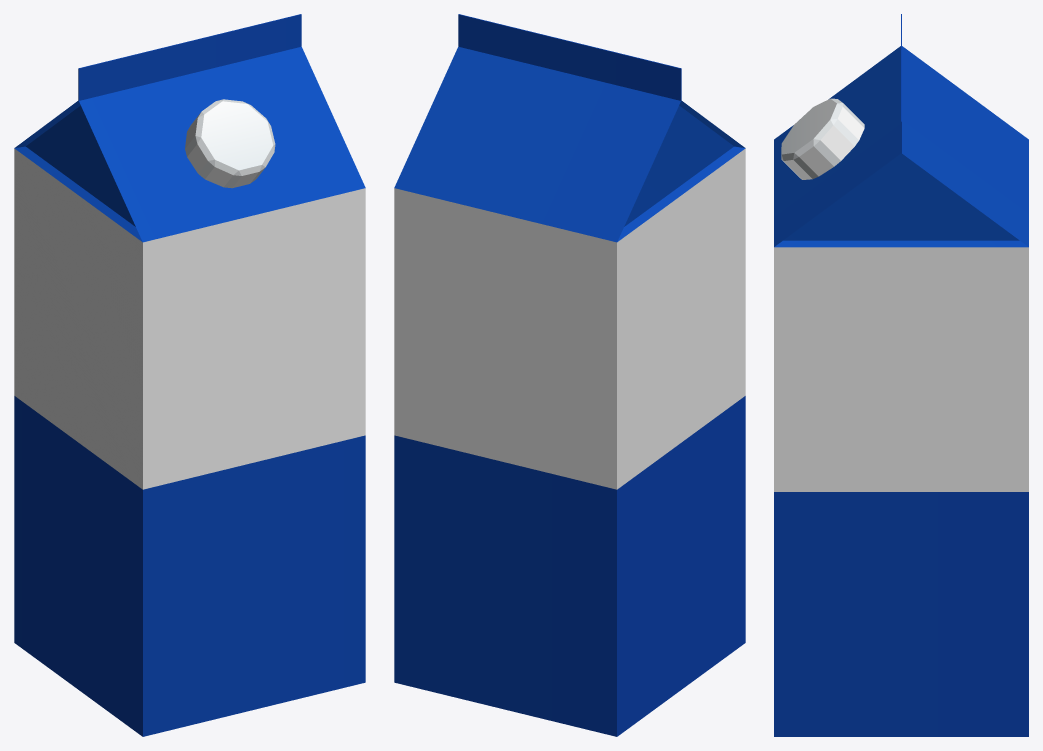
File: Milk.fbx
3 renders of one model, left to right at view 1: azimuth 30°, elevation 25°; view 2: azimuth 150°, elevation 25°; view 3: azimuth 270°, elevation 25°, orthographic.
Visible parts, largest first — view 1: Cube, Cylinder; view 2: Cube; view 3: Cube, Cylinder.
Boxes of the visible parts, box(x1,y1,x2,y2) form: Cube: box(14, 14, 365, 736); Cylinder: box(185, 99, 275, 188); Cube: box(394, 14, 745, 736); Cube: box(774, 14, 1028, 736); Cylinder: box(781, 98, 864, 179).
Bounding box in the file's own units: 204 × 543 × 204.
